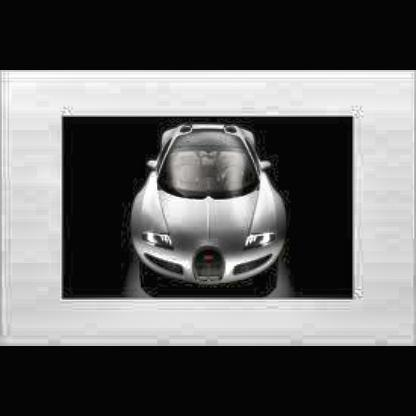Bugatti Veyron 16-4 Convertible 2009: (132, 127, 299, 297)
